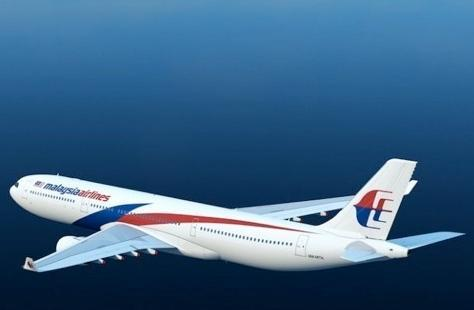airplane: (8, 155, 462, 274)
